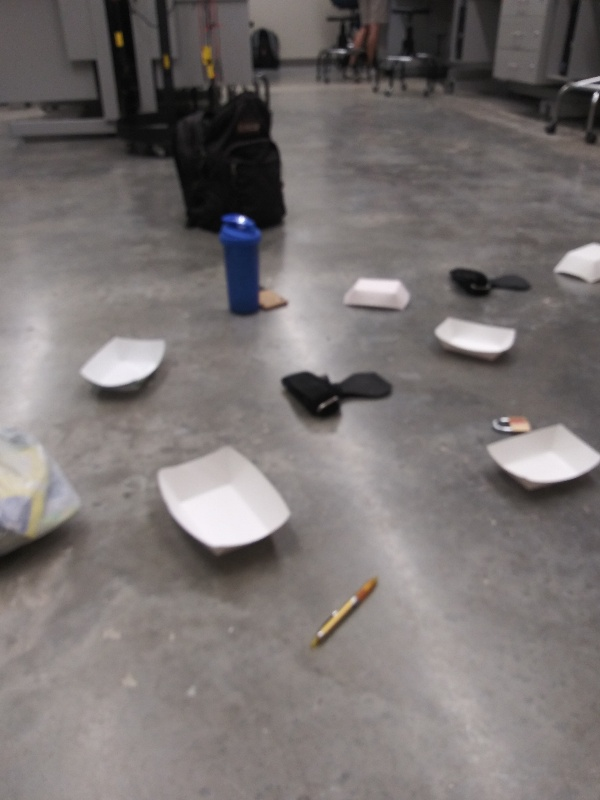plate: (149, 439, 296, 567), (482, 420, 600, 497), (76, 331, 172, 400), (432, 313, 520, 365), (338, 274, 414, 316), (552, 238, 600, 286)
